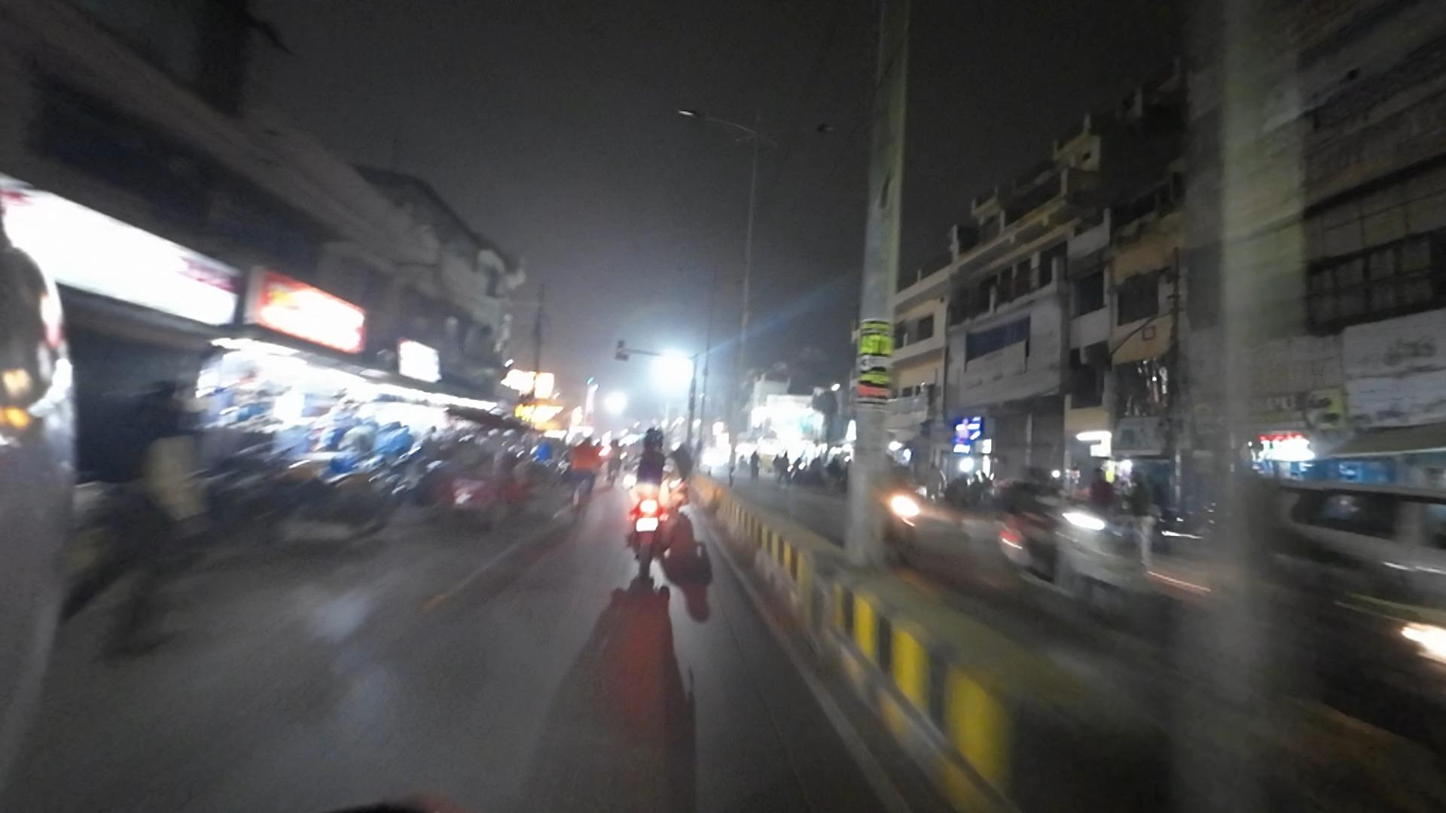streetlight: (674, 105, 752, 133), (767, 121, 840, 140)
